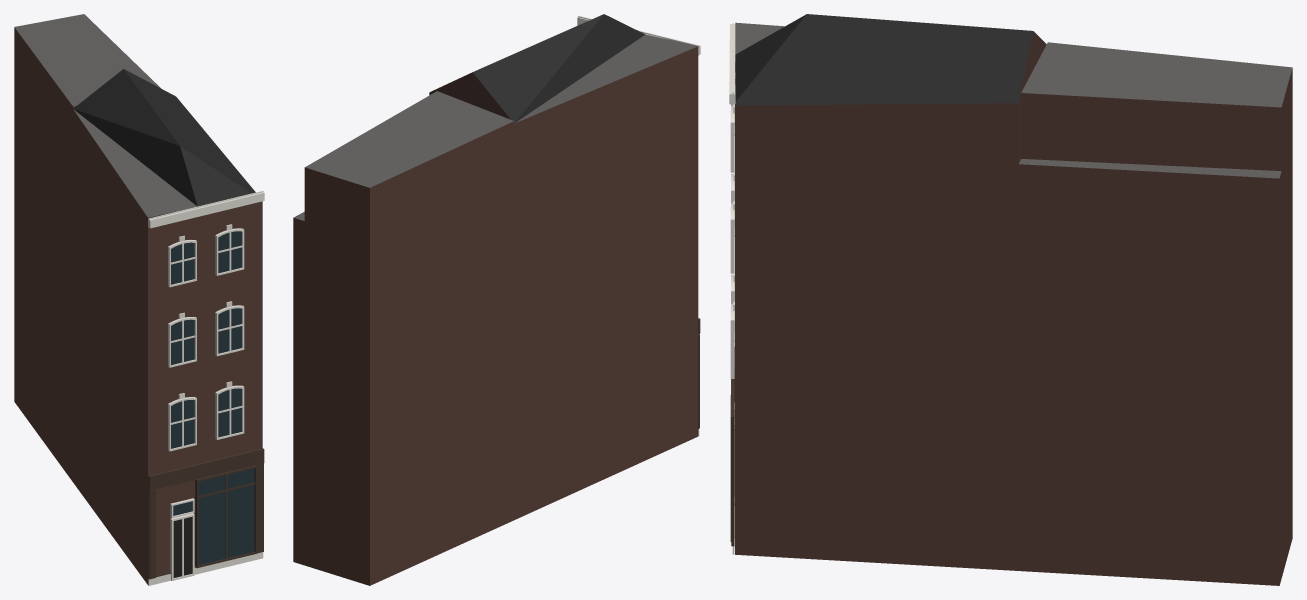
3 views of the same model, side by side, from view 1: azimuth 30°, elevation 25°; view 2: azimuth 150°, elevation 25°; view 3: azimuth 270°, elevation 25° (orthographic). The views are drawn at different scales.
Visible parts, largest first — view 1: spec-0363100012182545; view 2: spec-0363100012182545; view 3: spec-0363100012182545.
Boxes of the visible parts, left/top/right/bottom form: spec-0363100012182545: left=14, top=14, right=264, bottom=585; spec-0363100012182545: left=293, top=14, right=700, bottom=585; spec-0363100012182545: left=729, top=14, right=1292, bottom=585.
Bounding box in the file's own units: 7.61 × 17.91 × 17.87.
